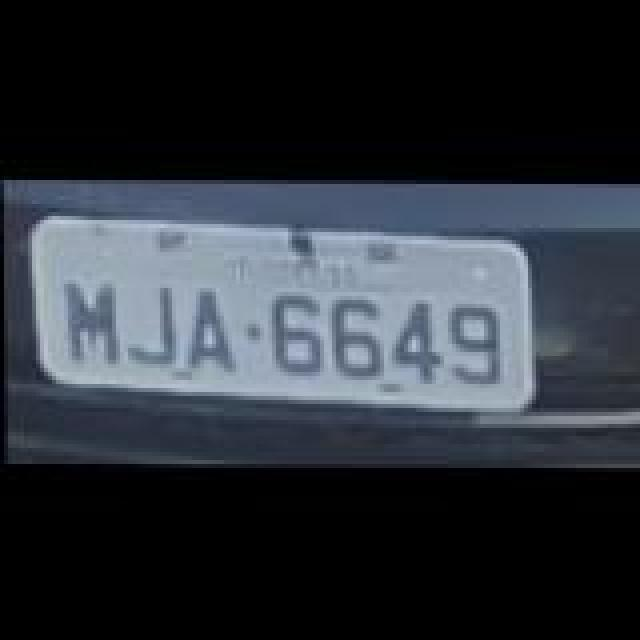4: (386, 296, 446, 380)
6: (328, 292, 392, 376), (264, 290, 328, 370)
9: (448, 300, 512, 384)
A: (184, 284, 240, 368)
J: (124, 278, 180, 362)
M: (62, 278, 122, 362)
